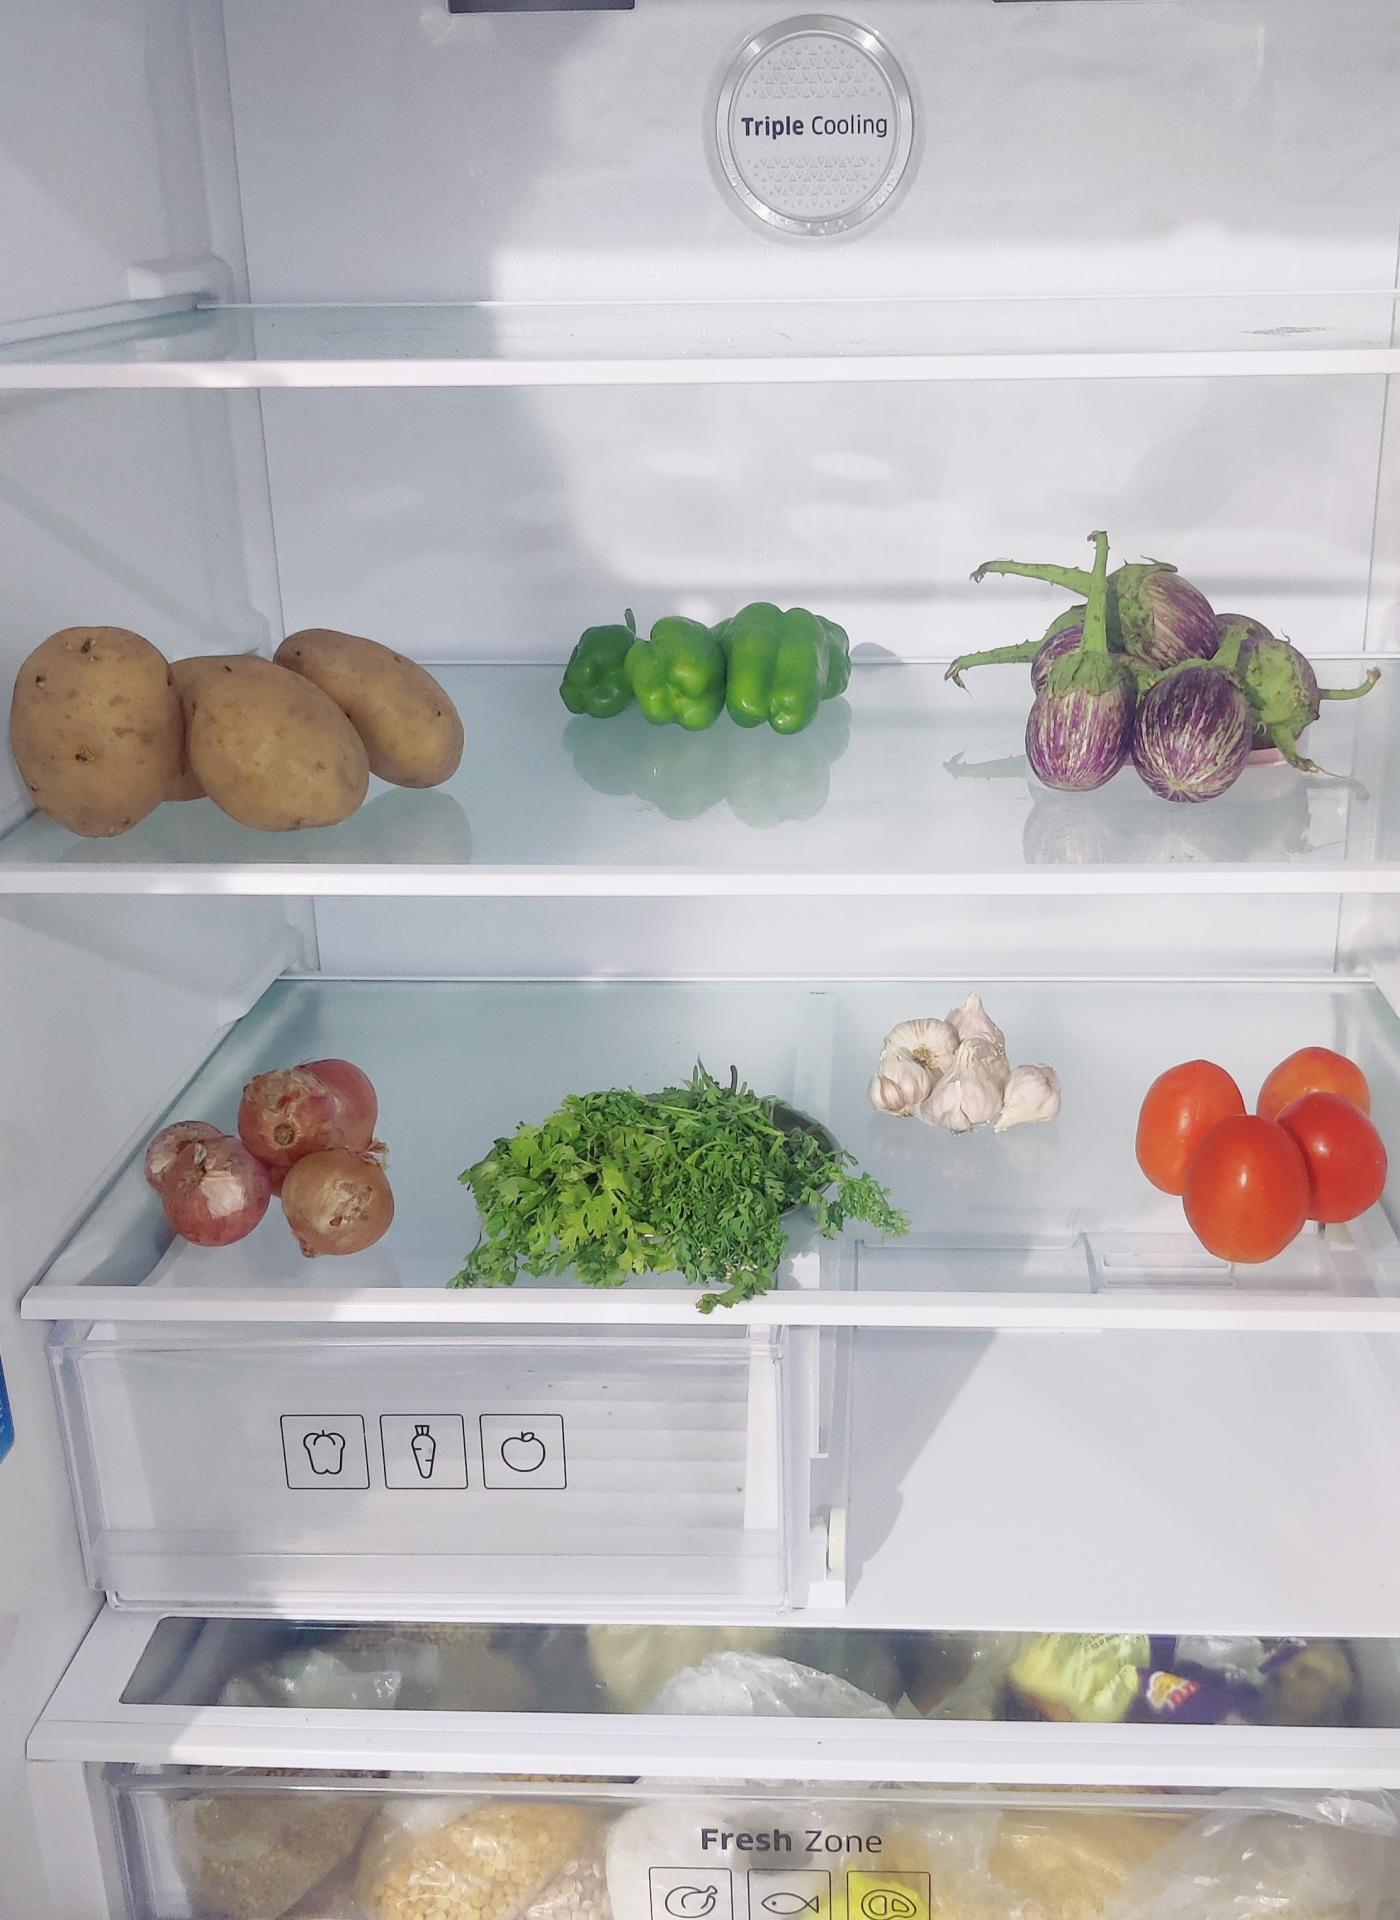brinjal: (990, 560, 1315, 808)
capsicum: (555, 599, 854, 729)
coriander: (455, 1081, 884, 1289)
garlic: (872, 994, 1060, 1134)
onion: (155, 1043, 397, 1246)
potato: (9, 613, 461, 829)
tomato: (1135, 1051, 1393, 1266)
